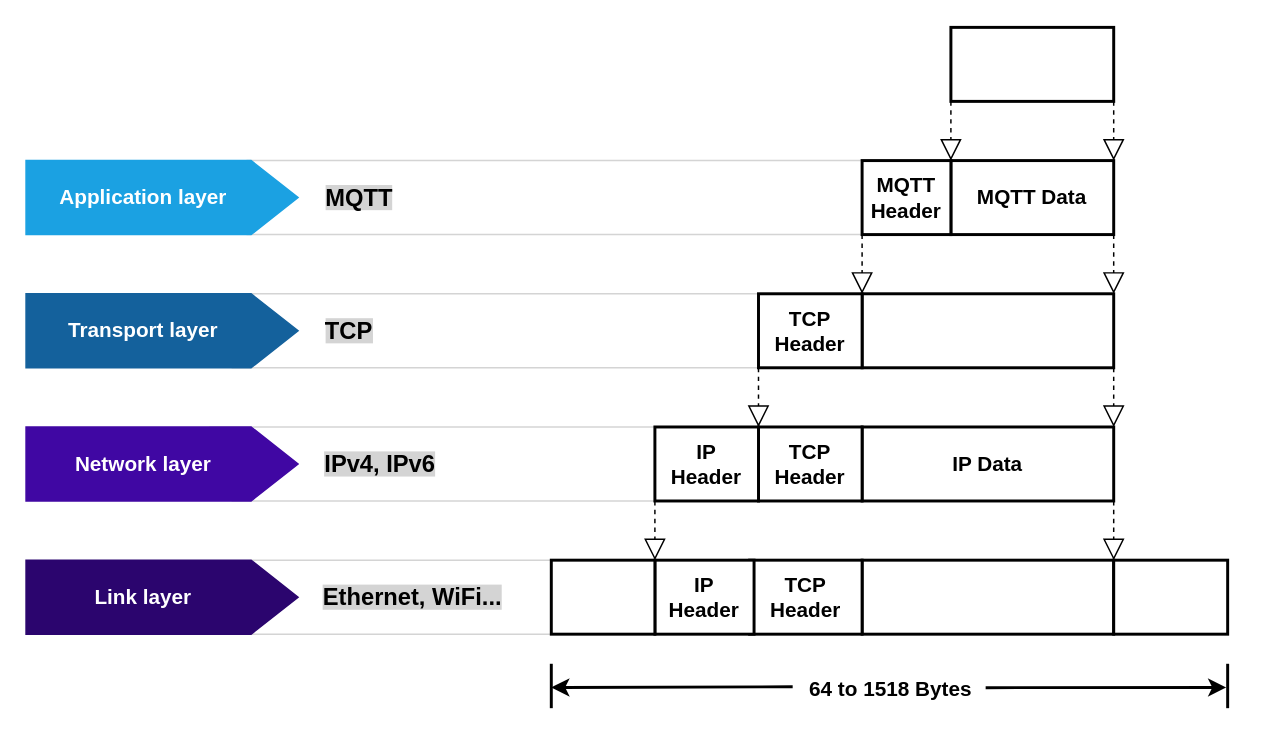
Some shapes in this 1265 by 736 pixel diagram are drawn without their labels. Here are the shapes that lost their labels. From the top down, the box of each, then its label:
(949, 25, 1114, 102): User Data
(860, 292, 1114, 369): TCP Data
(549, 558, 656, 635): Ethernet Header
(860, 558, 1114, 635): Frame Data
(1111, 558, 1228, 635): Ethernet Footer
